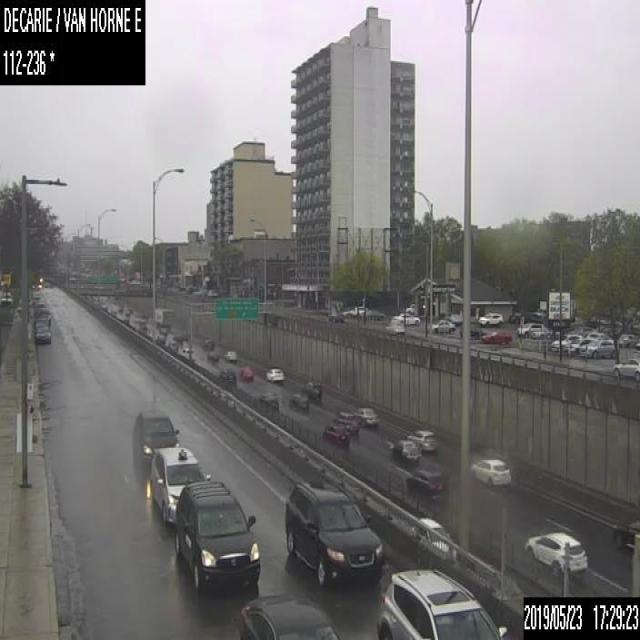vehicle: (282, 476, 383, 587), (377, 567, 509, 639), (174, 480, 260, 590), (150, 444, 210, 522), (238, 594, 340, 639), (524, 529, 588, 575), (132, 409, 180, 467), (418, 514, 458, 556), (404, 467, 444, 500), (470, 456, 511, 488), (612, 519, 639, 555), (579, 338, 614, 357), (406, 430, 435, 452), (611, 358, 639, 380), (392, 440, 420, 462), (322, 425, 348, 446), (564, 336, 594, 354), (334, 410, 358, 432), (354, 406, 378, 426), (551, 333, 577, 351), (515, 321, 544, 337), (340, 305, 370, 318), (154, 308, 174, 327), (428, 318, 455, 332), (217, 365, 236, 384), (481, 330, 511, 342), (258, 392, 278, 410), (478, 311, 503, 325), (289, 392, 308, 410), (392, 312, 420, 324), (303, 381, 321, 399), (33, 324, 50, 343), (459, 326, 484, 338), (359, 308, 384, 319), (266, 367, 284, 381), (618, 333, 636, 346), (530, 327, 551, 338), (237, 366, 252, 381), (37, 308, 51, 324), (181, 347, 195, 361), (0, 289, 13, 304), (223, 349, 236, 361), (327, 312, 342, 322), (34, 317, 47, 328), (166, 340, 178, 351), (206, 350, 218, 361), (585, 332, 603, 339), (202, 338, 213, 349), (205, 288, 218, 297), (404, 302, 414, 313), (155, 334, 165, 343), (158, 326, 166, 335)
